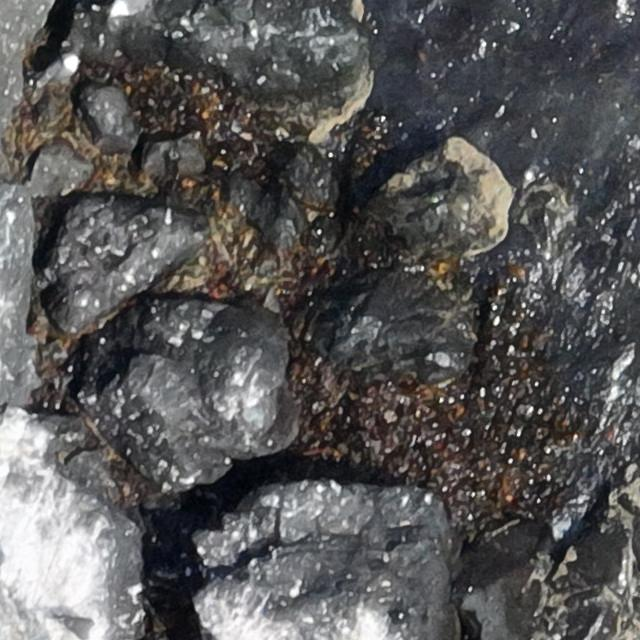umineko: (43, 56, 77, 82), (62, 617, 100, 638)
